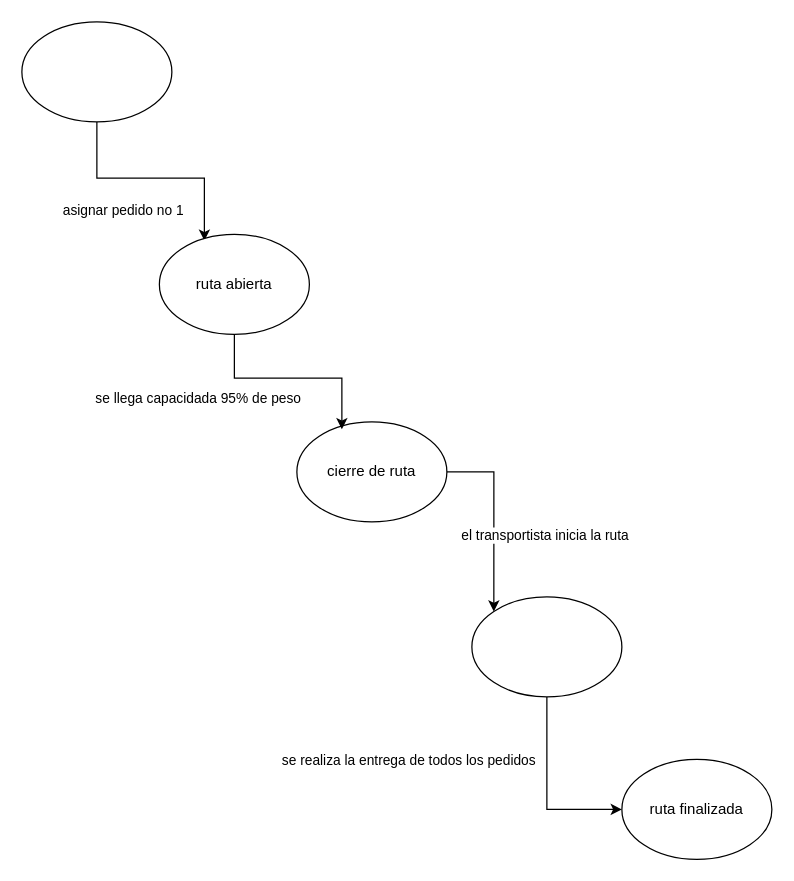
This 794x881 diagram has some shape labels left out. Here are the shapes that lost their labels. From the top down, the box of each, then its label:
(21, 21, 172, 122): creacion de ruta
(471, 596, 622, 697): en ruta
